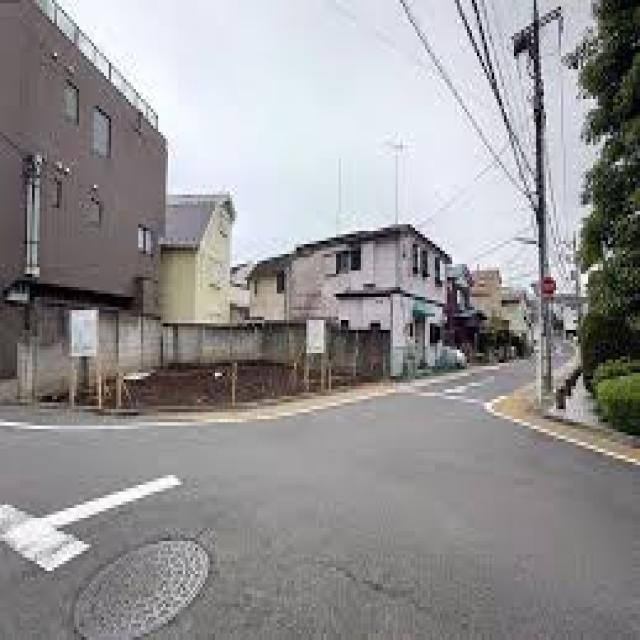manhole: (73, 538, 211, 637)
